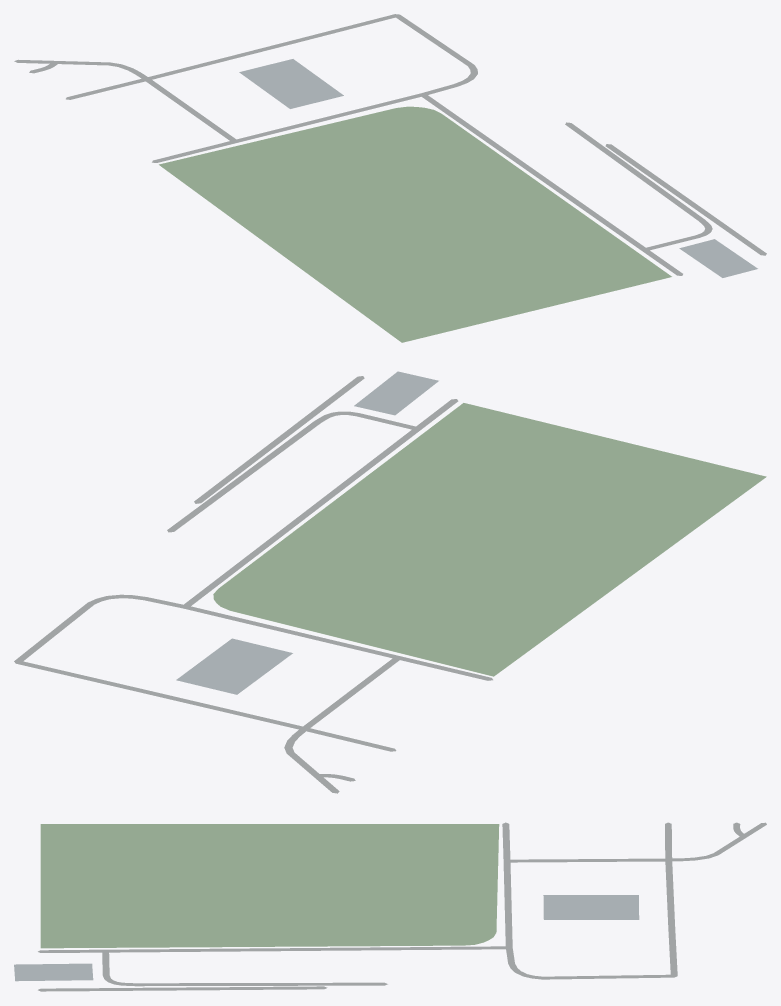
Rendered from -18_-3-known-coarse.glb.
The picture shows the model from 3 angles, top to bottom: view 1: azimuth 30°, elevation 25°; view 2: azimuth 150°, elevation 25°; view 3: azimuth 270°, elevation 25°; orthographic projection. The views are drawn at different scales.
Bounding box in the file's own units: 173 × 0.15 × 326.
